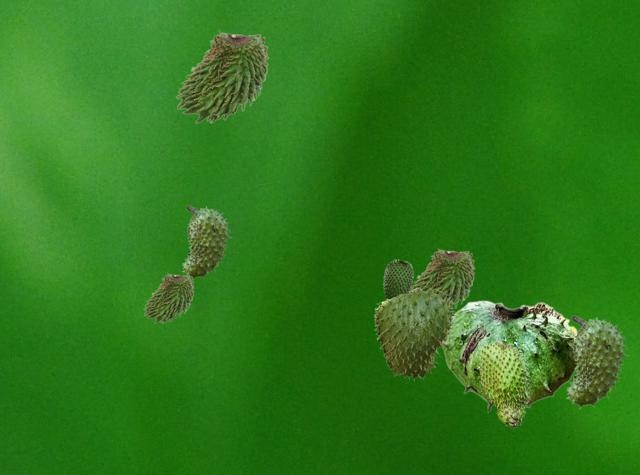guyabano: (442, 300, 577, 412), (175, 29, 268, 122), (374, 287, 455, 380), (565, 315, 628, 408), (478, 340, 530, 428), (411, 247, 474, 308), (181, 205, 231, 279), (143, 272, 193, 322), (383, 259, 412, 299)
